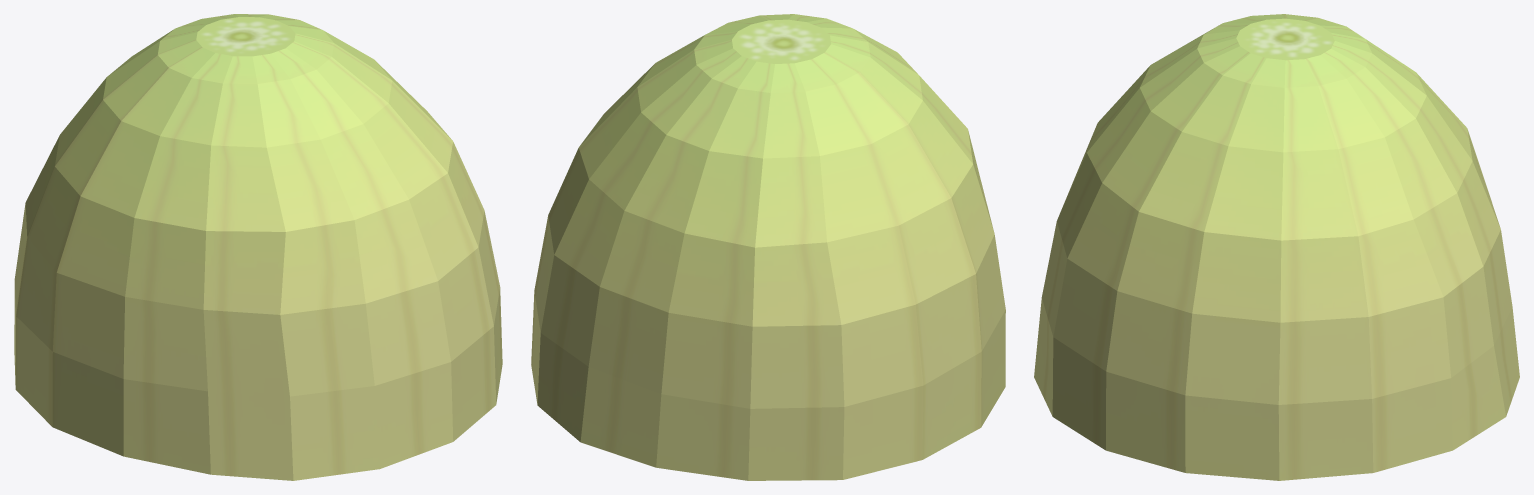
The model's file is OnionCutBottomHalf.fbx.
3 views of the same model, side by side, from view 1: azimuth 30°, elevation 25°; view 2: azimuth 150°, elevation 25°; view 3: azimuth 270°, elevation 25° (orthographic).
Visible parts, largest first — view 1: OnionCutBottomHalf; view 2: OnionCutBottomHalf; view 3: OnionCutBottomHalf.
Part boxes in pixels (<box>): OnionCutBottomHalf: <box>14,14,502,480</box>; OnionCutBottomHalf: <box>531,14,1005,480</box>; OnionCutBottomHalf: <box>1034,14,1519,480</box>.
Bounding box in the file's own units: 13.63 × 10.62 × 13.92.
